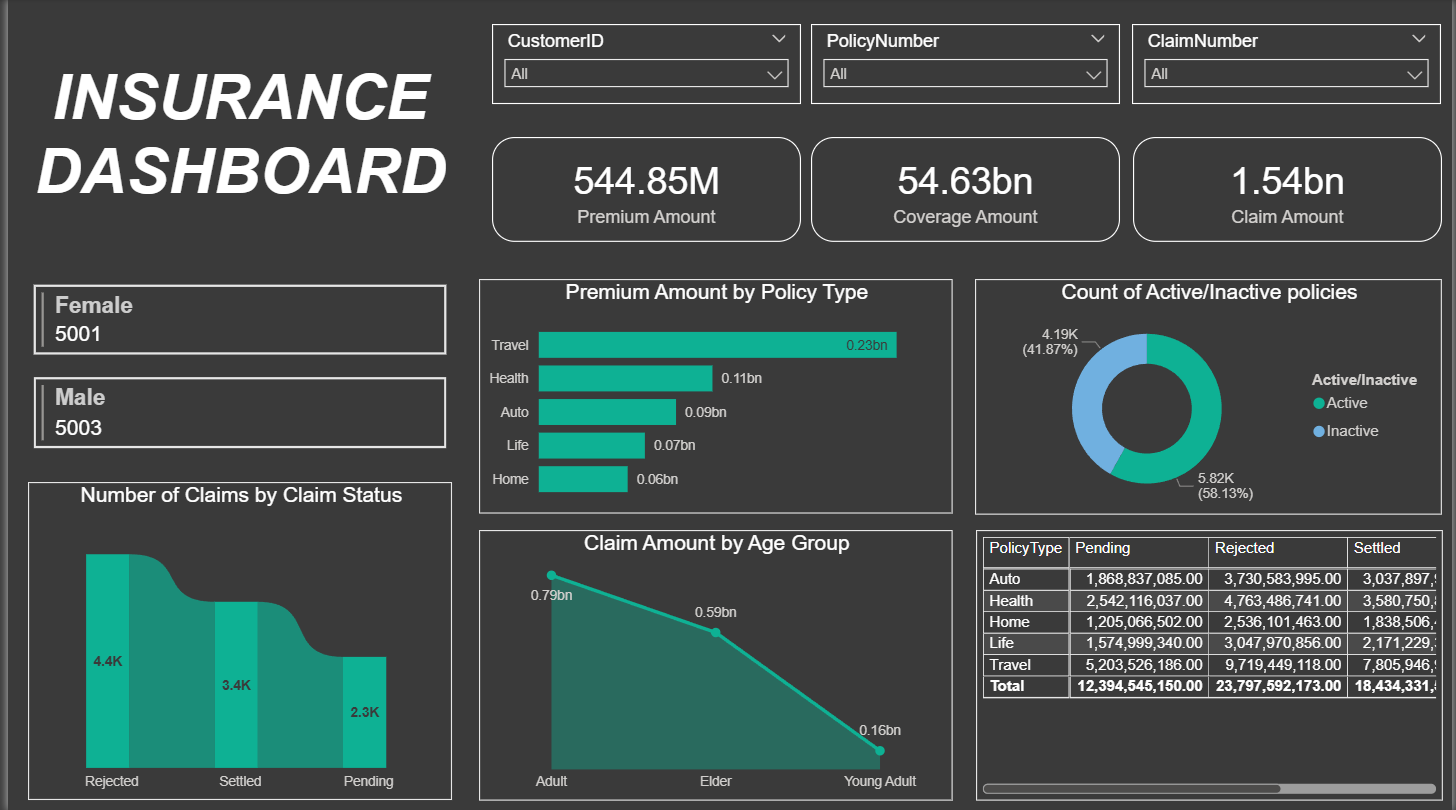

This screenshot's page, from the dashboard's own definition file:
{"tool":"powerbi","page":{"name":"Page 1","canvas":[1280,720],"ordinal":0},"visuals":[{"type":"slicer","fields":{"Values":["InsuranceData.PolicyNumber"]},"box":[712.2,22,274.4,71.4],"z":0},{"type":"slicer","fields":{"Values":["InsuranceData.ClaimNumber"]},"box":[996.2,22,274.4,71.4],"z":1000},{"type":"slicer","fields":{"Values":["InsuranceData.CustomerID"]},"box":[429.5,22,274.4,71.4],"z":2000},{"type":"textbox","box":[18.1,49.5,376.4,147.2],"z":3000},{"type":"card","fields":{"Values":["Sum(InsuranceData.PremiumAmount)"]},"box":[429.5,122.6,273.9,92.9],"z":4000},{"type":"card","fields":{"Values":["Sum(InsuranceData.CoverageAmount)"]},"box":[711.8,122.6,273.9,92.9],"z":5000},{"type":"card","fields":{"Values":["Sum(InsuranceData.ClaimAmount)"]},"box":[997.7,122.6,273.9,92.9],"z":6000},{"type":"multiRowCard","fields":{"Values":["InsuranceData.Gender","CountNonNull(InsuranceData.Gender)"]},"box":[18.1,248.5,376.4,179.8],"z":7000},{"type":"ribbonChart","title":"Number of Claims by Claim Status","fields":{"Category":["InsuranceData.ClaimStatus"],"Y":["CountNonNull(InsuranceData.ClaimStatus)"]},"box":[18.1,428.3,376.4,282.3],"z":8000},{"type":"barChart","title":"Premium Amount by Policy Type","fields":{"Category":["InsuranceData.PolicyType"],"Y":["Sum(InsuranceData.PremiumAmount)"]},"box":[417.4,248.5,419.8,207.5],"z":9000},{"type":"lineChart","title":"Claim Amount by Age Group","fields":{"Category":["InsuranceData.Age Group"],"Y":["Sum(InsuranceData.ClaimAmount)"]},"box":[417.4,470.5,419.8,240.1],"z":10000},{"type":"donutChart","title":"Count of Active/Inactive policies","fields":{"Category":["InsuranceData.Active/Inactive"],"Y":["CountNonNull(InsuranceData.Active/Inactive)"]},"box":[857.8,248.5,413.8,208.7],"z":11000},{"type":"pivotTable","fields":{"Values":["Sum(InsuranceData.CoverageAmount)"],"Rows":["InsuranceData.PolicyType"],"Columns":["InsuranceData.ClaimStatus"]},"box":[858,471,414,240],"z":12000}]}

Visuals, with their boxes in screenshot pixels (x1, y1, x2, y2), scaled from the page's 1280x720 canvas onto the 1456x810 screenshot:
slicer - InsuranceData.PolicyNumber: {"x1": 810, "y1": 25, "x2": 1122, "y2": 105}
slicer - InsuranceData.ClaimNumber: {"x1": 1133, "y1": 25, "x2": 1445, "y2": 105}
slicer - InsuranceData.CustomerID: {"x1": 489, "y1": 25, "x2": 801, "y2": 105}
textbox: {"x1": 21, "y1": 56, "x2": 449, "y2": 221}
card - Sum(InsuranceData.PremiumAmount): {"x1": 489, "y1": 138, "x2": 800, "y2": 242}
card - Sum(InsuranceData.CoverageAmount): {"x1": 810, "y1": 138, "x2": 1121, "y2": 242}
card - Sum(InsuranceData.ClaimAmount): {"x1": 1135, "y1": 138, "x2": 1446, "y2": 242}
multiRowCard - InsuranceData.Gender x CountNonNull(InsuranceData.Gender): {"x1": 21, "y1": 280, "x2": 449, "y2": 482}
"Number of Claims by Claim Status" ribbonChart: {"x1": 21, "y1": 482, "x2": 449, "y2": 799}
"Premium Amount by Policy Type" barChart: {"x1": 475, "y1": 280, "x2": 952, "y2": 513}
"Claim Amount by Age Group" lineChart: {"x1": 475, "y1": 529, "x2": 952, "y2": 799}
"Count of Active/Inactive policies" donutChart: {"x1": 976, "y1": 280, "x2": 1446, "y2": 514}
pivotTable - Sum(InsuranceData.CoverageAmount) x InsuranceData.PolicyType: {"x1": 976, "y1": 530, "x2": 1447, "y2": 800}
